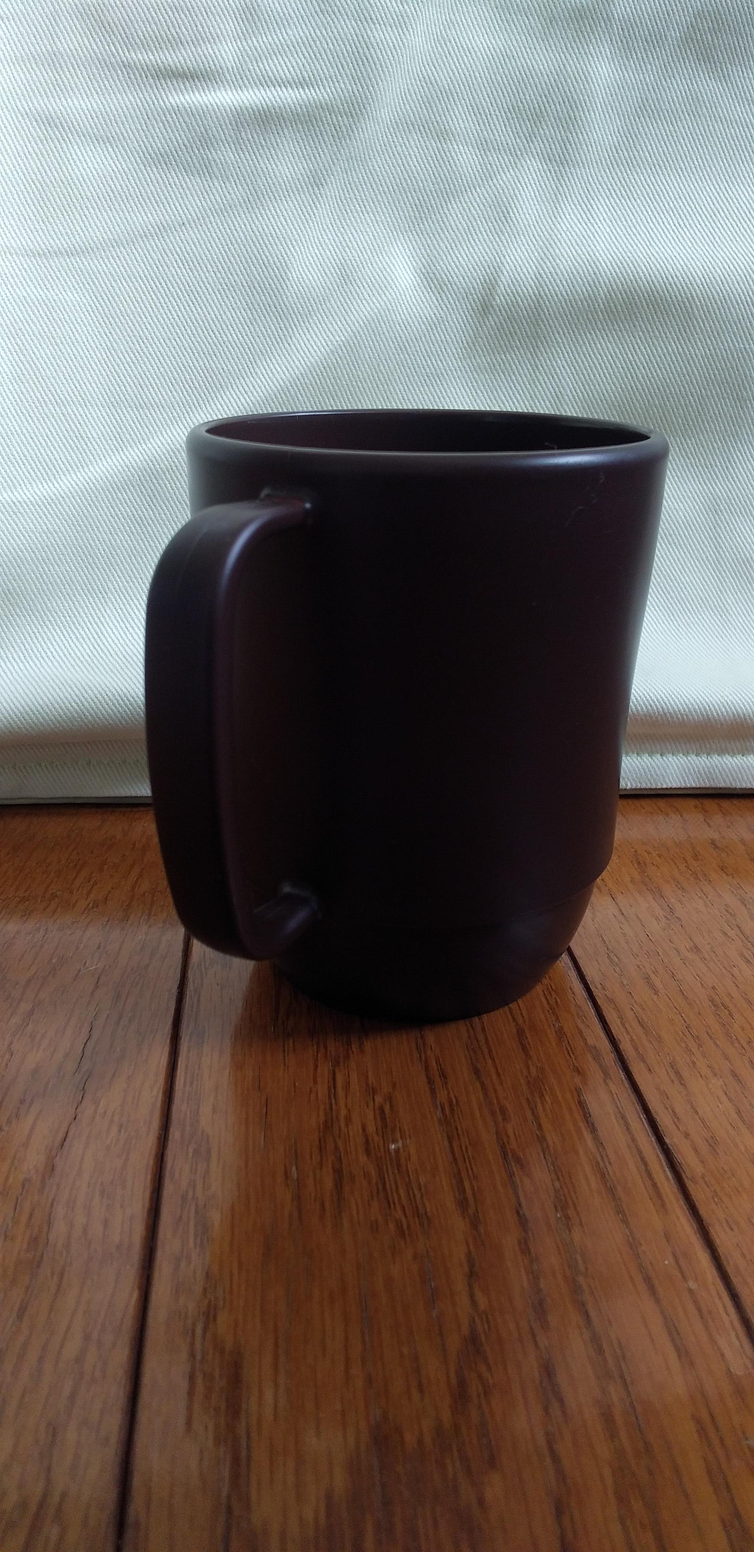mug-real100-3d100: (145, 410, 667, 1023)
